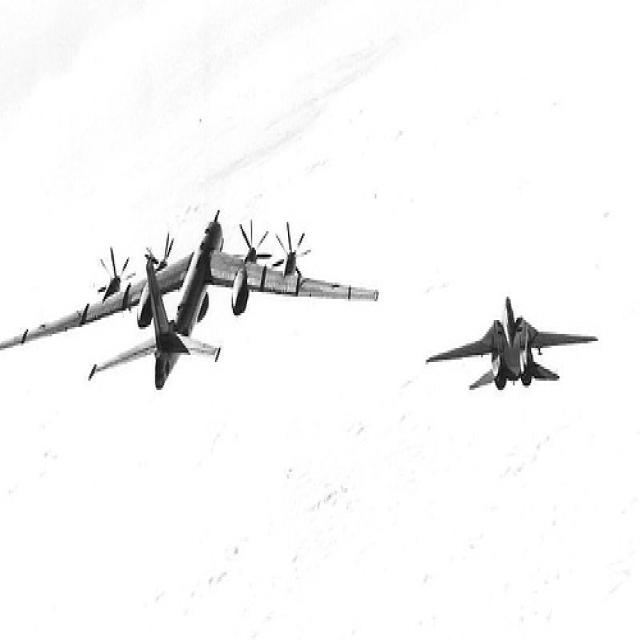aeroplane: (1, 207, 381, 394), (425, 293, 600, 393)
